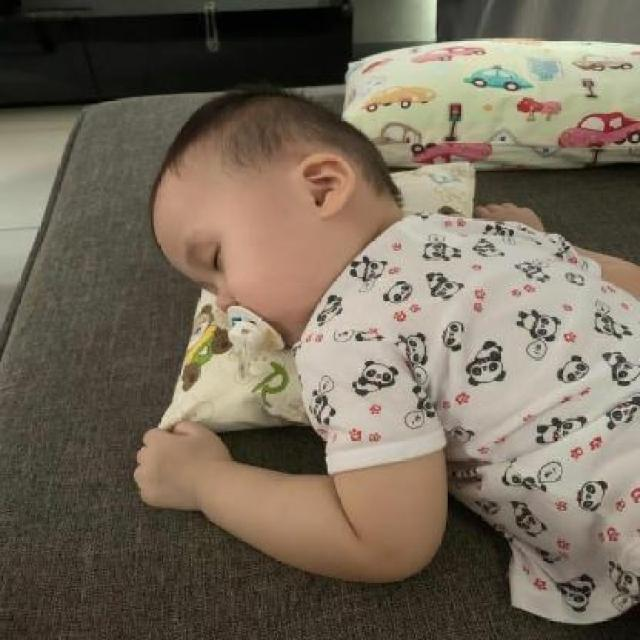baby: (127, 87, 638, 618)
